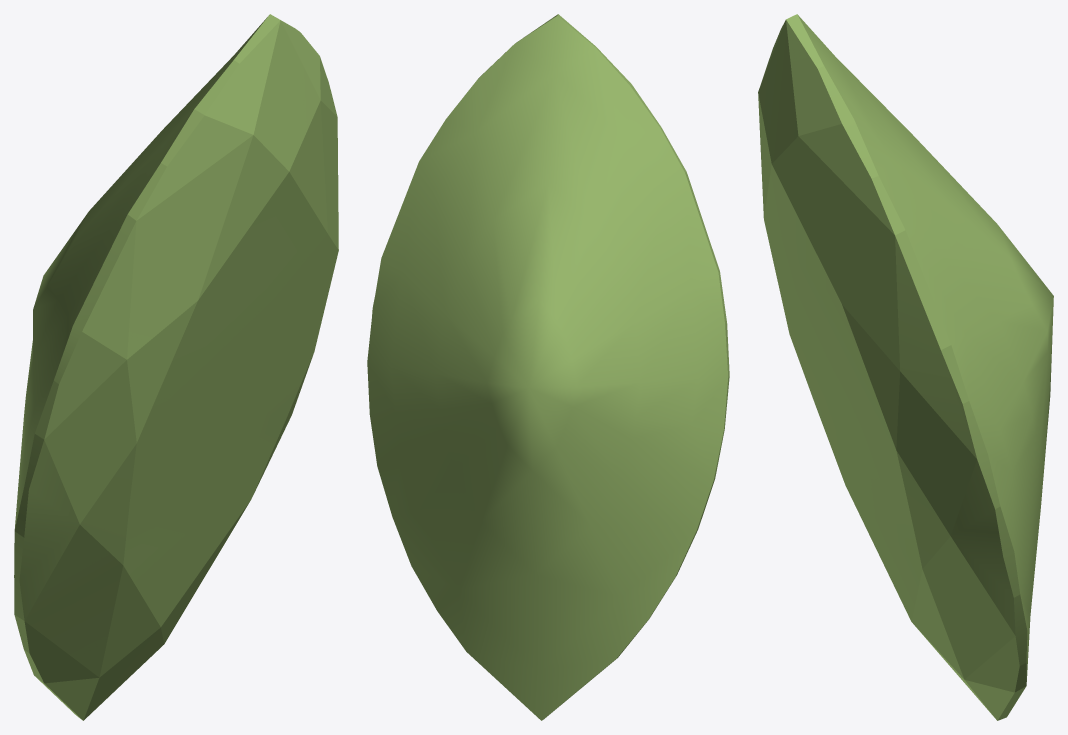
Rendered from BR2_8shapes_Marquise_Classic_Stone.001 3.glb.
3 renders of one model, left to right at view 1: azimuth 30°, elevation 25°; view 2: azimuth 150°, elevation 25°; view 3: azimuth 270°, elevation 25°, orthographic. The views are drawn at different scales.
Parts seen in each view (by area): view 1: BR2_8shapes_Marquise_Classic_Stone.001; view 2: BR2_8shapes_Marquise_Classic_Stone.001; view 3: BR2_8shapes_Marquise_Classic_Stone.001.
Part boxes in pixels (x1,y1,x2,y2): BR2_8shapes_Marquise_Classic_Stone.001: (14, 14, 338, 720); BR2_8shapes_Marquise_Classic_Stone.001: (367, 14, 729, 720); BR2_8shapes_Marquise_Classic_Stone.001: (758, 14, 1053, 720).
Bounding box in the file's own units: 0.304 × 0.606 × 0.2173.
